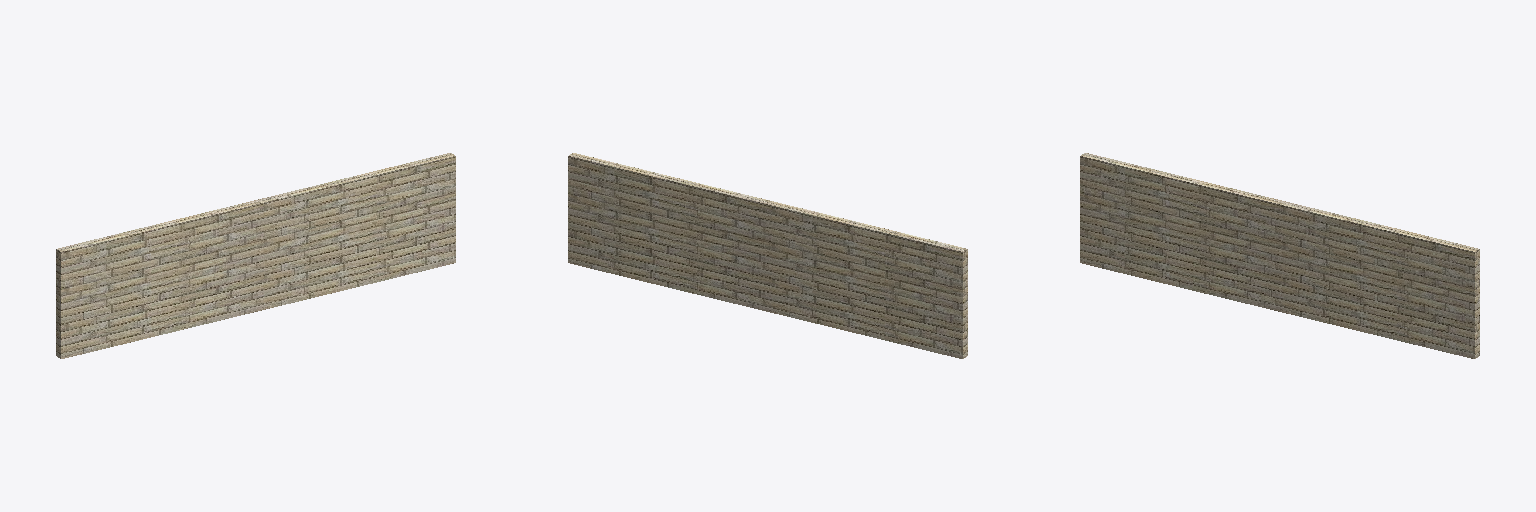
The picture shows the model from 3 angles: view 1: azimuth 30°, elevation 25°; view 2: azimuth 150°, elevation 25°; view 3: azimuth 330°, elevation 25°; orthographic projection.
Visible parts, largest first — view 1: wall; view 2: wall; view 3: wall.
Part boxes in pixels (x1,y1,x2,y2): wall: (56,153,455,358); wall: (568,153,967,358); wall: (1080,153,1479,358).
Size of the model in its own units: 100 by 26 by 2.
Materials: 1 (1 with a texture image).